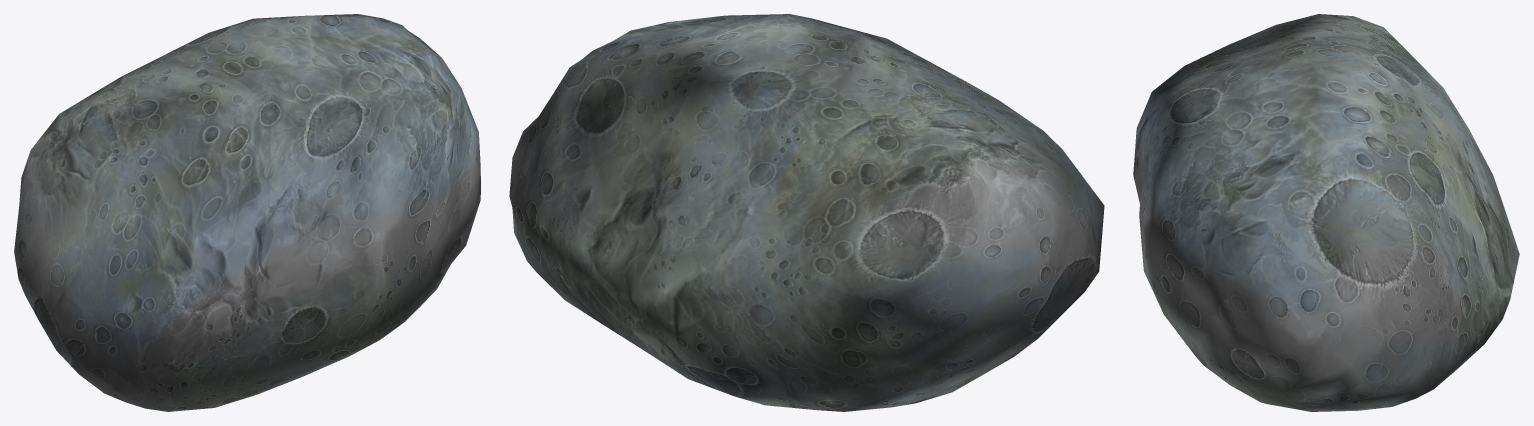
File: asteroid_1_obj_02.dae
The picture shows the model from 3 angles, left to right: view 1: azimuth 30°, elevation 25°; view 2: azimuth 150°, elevation 25°; view 3: azimuth 270°, elevation 25°; orthographic projection. The views are drawn at different scales.
Parts seen in each view (by area): view 1: MULT[ShipMesh1]_LOD[0]_TAGS[DoScar]; view 2: MULT[ShipMesh1]_LOD[0]_TAGS[DoScar]; view 3: MULT[ShipMesh1]_LOD[0]_TAGS[DoScar].
Boxes of the visible parts, x1,y1,x2,y2 form: MULT[ShipMesh1]_LOD[0]_TAGS[DoScar]: (14,14,480,411); MULT[ShipMesh1]_LOD[0]_TAGS[DoScar]: (509,14,1104,411); MULT[ShipMesh1]_LOD[0]_TAGS[DoScar]: (1133,14,1519,411).
Bounding box in the file's own units: 21.74 × 14.46 × 14.78.
